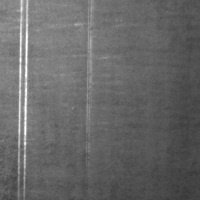scratches: (15, 1, 31, 199), (84, 1, 96, 160)
